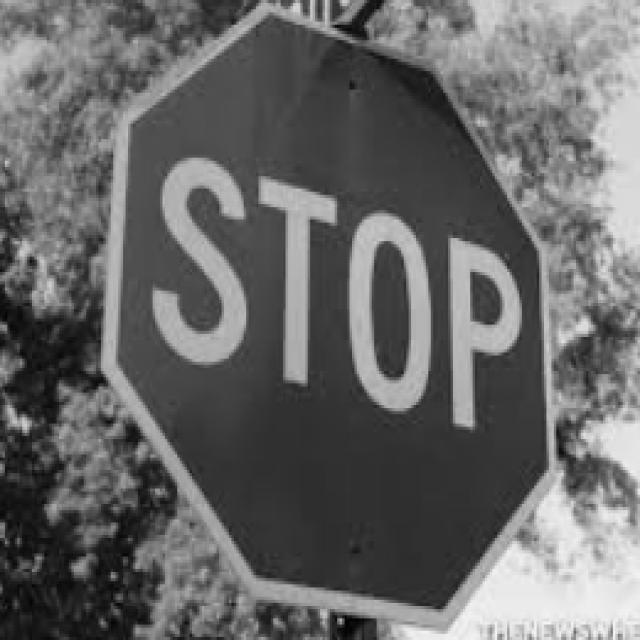Stop-signs: (104, 2, 556, 627)
